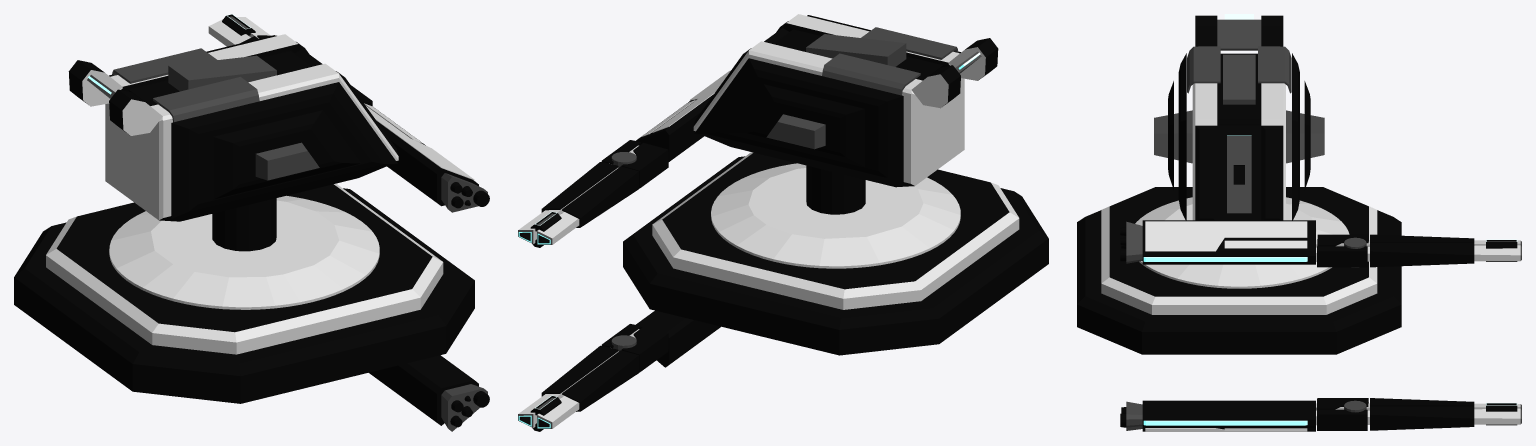
The model's file is Tower-3-Mesh.fbx.
3 views of the same model, side by side, from view 1: azimuth 30°, elevation 25°; view 2: azimuth 150°, elevation 25°; view 3: azimuth 270°, elevation 25° (orthographic). The views are drawn at different scales.
Visible parts, largest first — view 1: T7RotV1, T7BaseV1, T7RightGun, T7LeftGun; view 2: T7RotV1, T7BaseV1, T7RightGun, T7LeftGun; view 3: T7RotV1, T7BaseV1, T7RightGun, T7LeftGun.
Boxes of the visible parts, box(x1,y1,x2,y2) form: T7RotV1: box(68, 34, 398, 309); T7BaseV1: box(14, 183, 474, 403); T7RightGun: box(208, 14, 489, 212); T7LeftGun: box(369, 355, 489, 431); T7RotV1: box(693, 14, 998, 268); T7BaseV1: box(623, 152, 1048, 355); T7RightGun: box(518, 70, 730, 247); T7LeftGun: box(518, 310, 720, 431); T7RotV1: box(1135, 14, 1349, 288); T7BaseV1: box(1077, 187, 1401, 354); T7RightGun: box(1120, 220, 1521, 267); T7LeftGun: box(1120, 398, 1521, 431).
Bounding box in the file's own units: 2.74 × 2.07 × 2.03.
